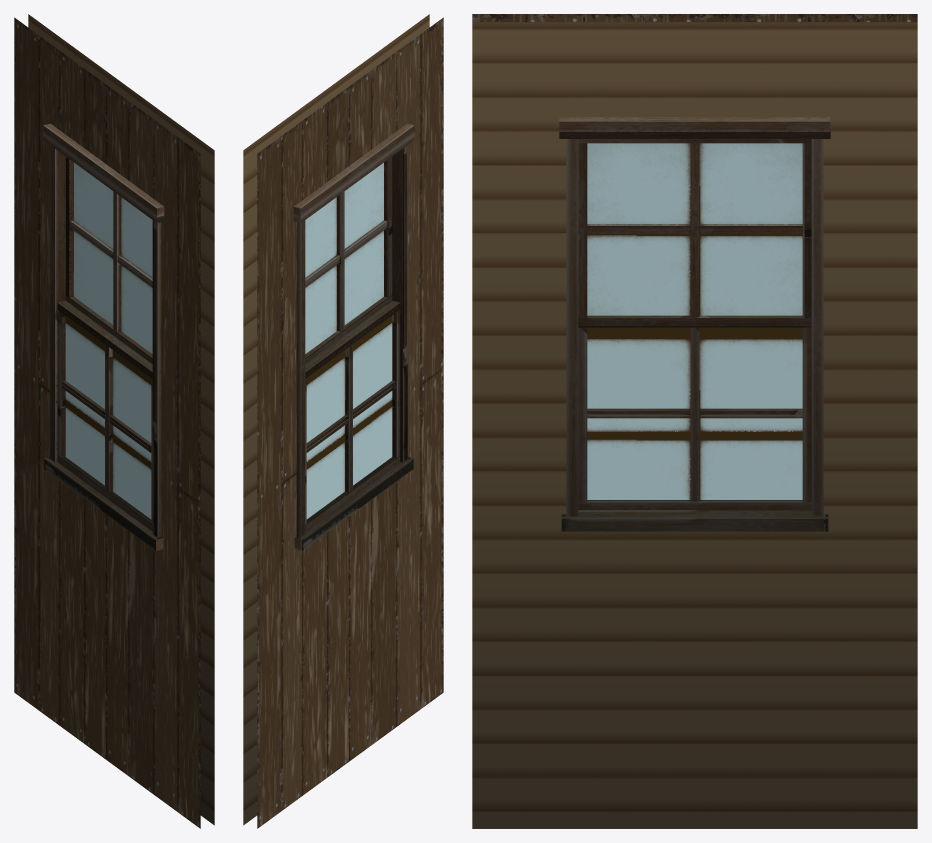
The model's file is M_Window_Wall.fbx.
The picture shows the model from 3 angles, left to right: view 1: azimuth 30°, elevation 25°; view 2: azimuth 150°, elevation 25°; view 3: azimuth 270°, elevation 25°; orthographic projection. The views are drawn at different scales.
Parts seen in each view (by area): view 1: Cube.030; view 2: Cube.030; view 3: Cube.030.
Part boxes in pixels (left/top/right/bottom): Cube.030: left=14, top=14, right=214, bottom=828; Cube.030: left=243, top=14, right=443, bottom=828; Cube.030: left=472, top=14, right=917, bottom=828.
Bounding box in the file's own units: 17.96 × 400 × 200.
